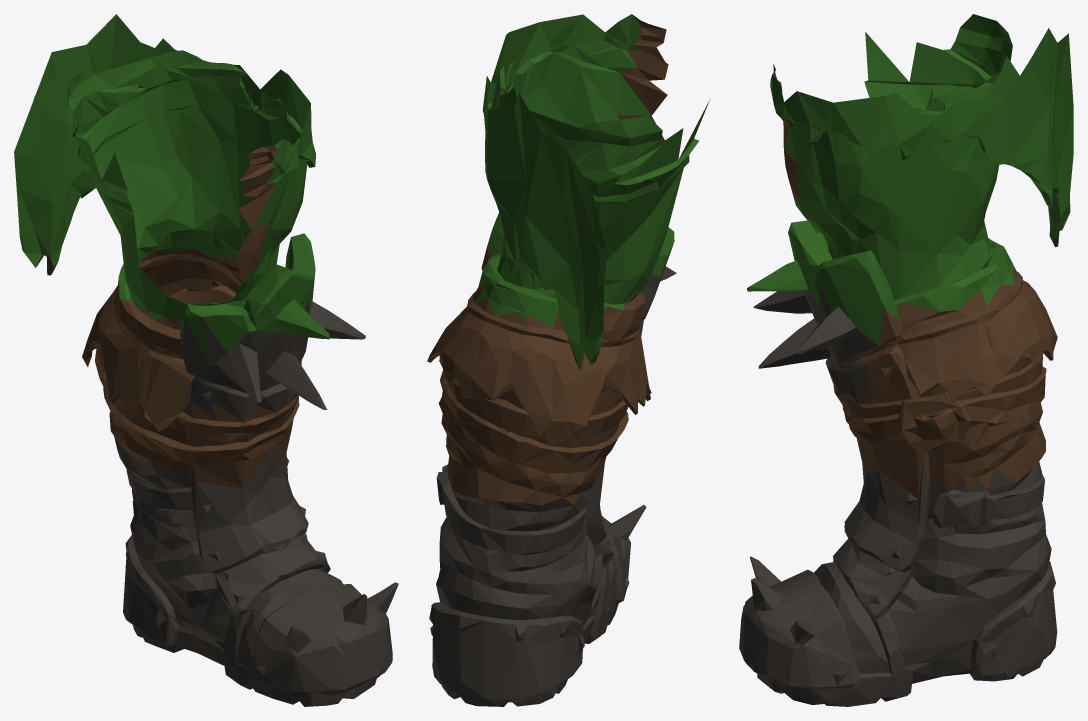
File: ork_leg_l.obj
The picture shows the model from 3 angles, left to right: view 1: azimuth 30°, elevation 25°; view 2: azimuth 150°, elevation 25°; view 3: azimuth 270°, elevation 25°; orthographic projection. The views are drawn at different scales.
Visible parts, largest first — view 1: Left_Leg; view 2: Left_Leg; view 3: Left_Leg.
Part boxes in pixels (left/top/right/bottom): Left_Leg: left=14, top=14, right=398, bottom=706; Left_Leg: left=427, top=14, right=709, bottom=706; Left_Leg: left=739, top=14, right=1073, bottom=706.
Bounding box in the file's own units: 0.388 × 0.8942 × 0.4449.
